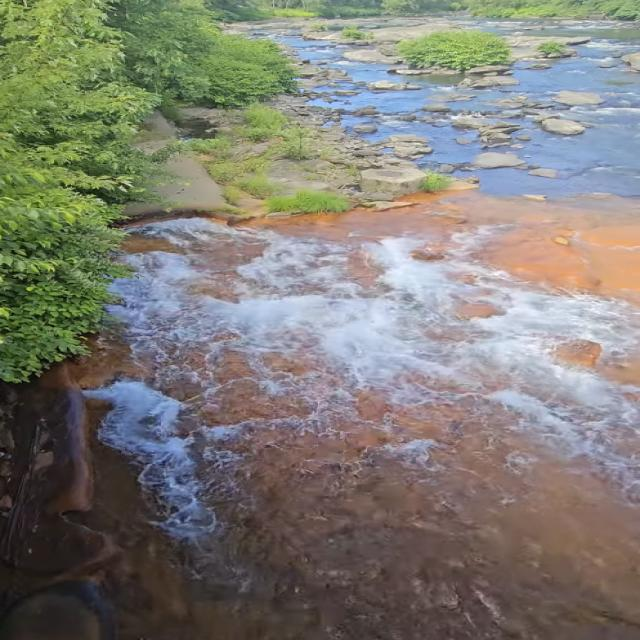yellow_boy: (76, 193, 639, 639)
